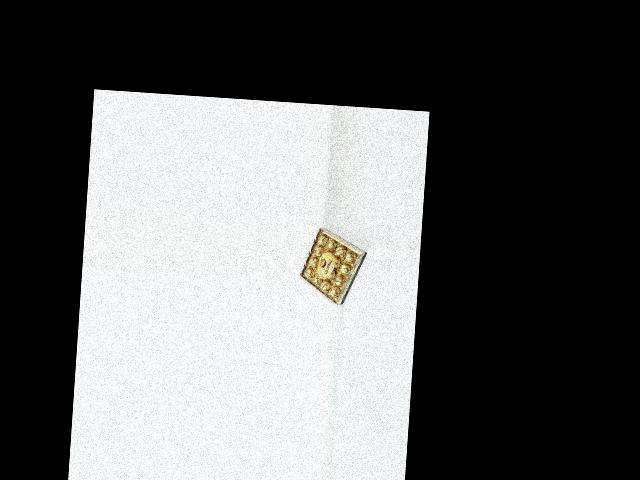chocolate: (296, 225, 370, 308)
